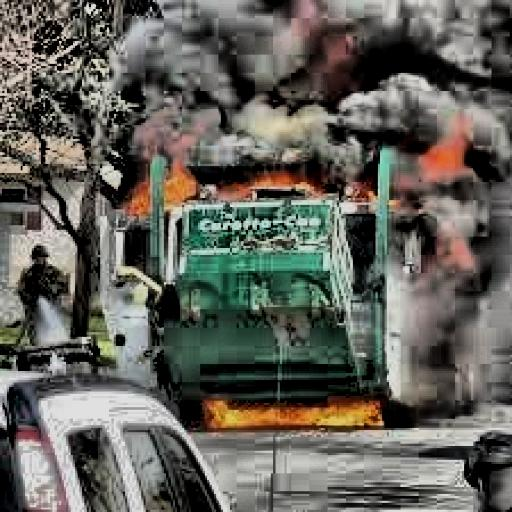fire: (405, 112, 498, 284), (239, 148, 410, 223), (189, 378, 396, 439), (123, 152, 202, 228)
